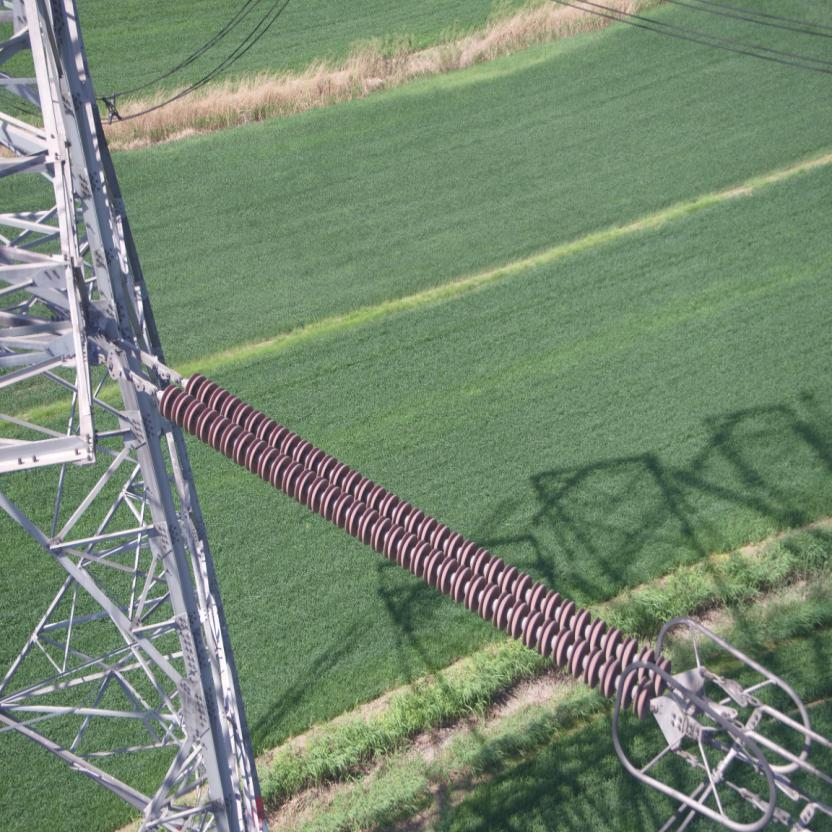insulator: (126, 360, 681, 725)
